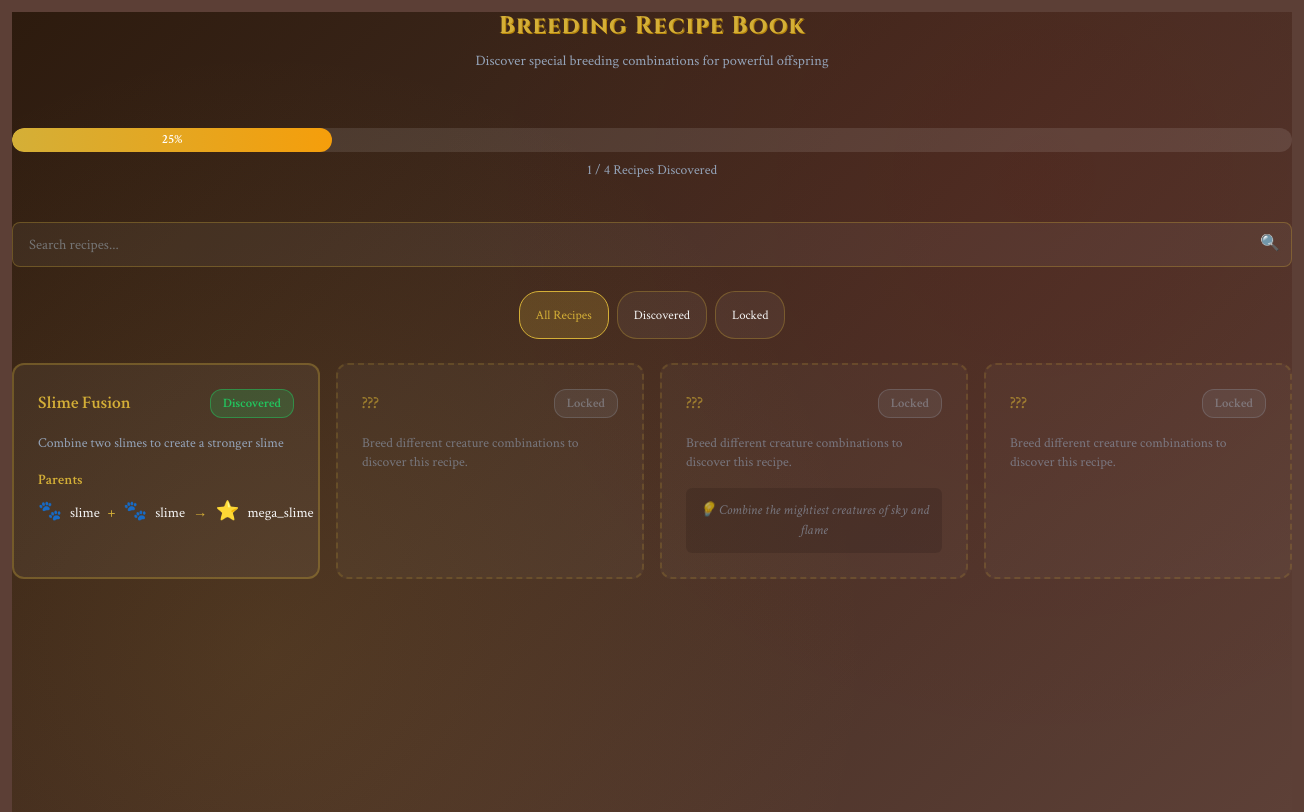
Test case: BreedingRecipeBook › Filter by Discovery Status › should return to all recipes when All Recipes clicked
Note: Filter to discovered
Click the button "Discovered" at (662, 315), box x1=617 y1=291 x2=707 y2=339
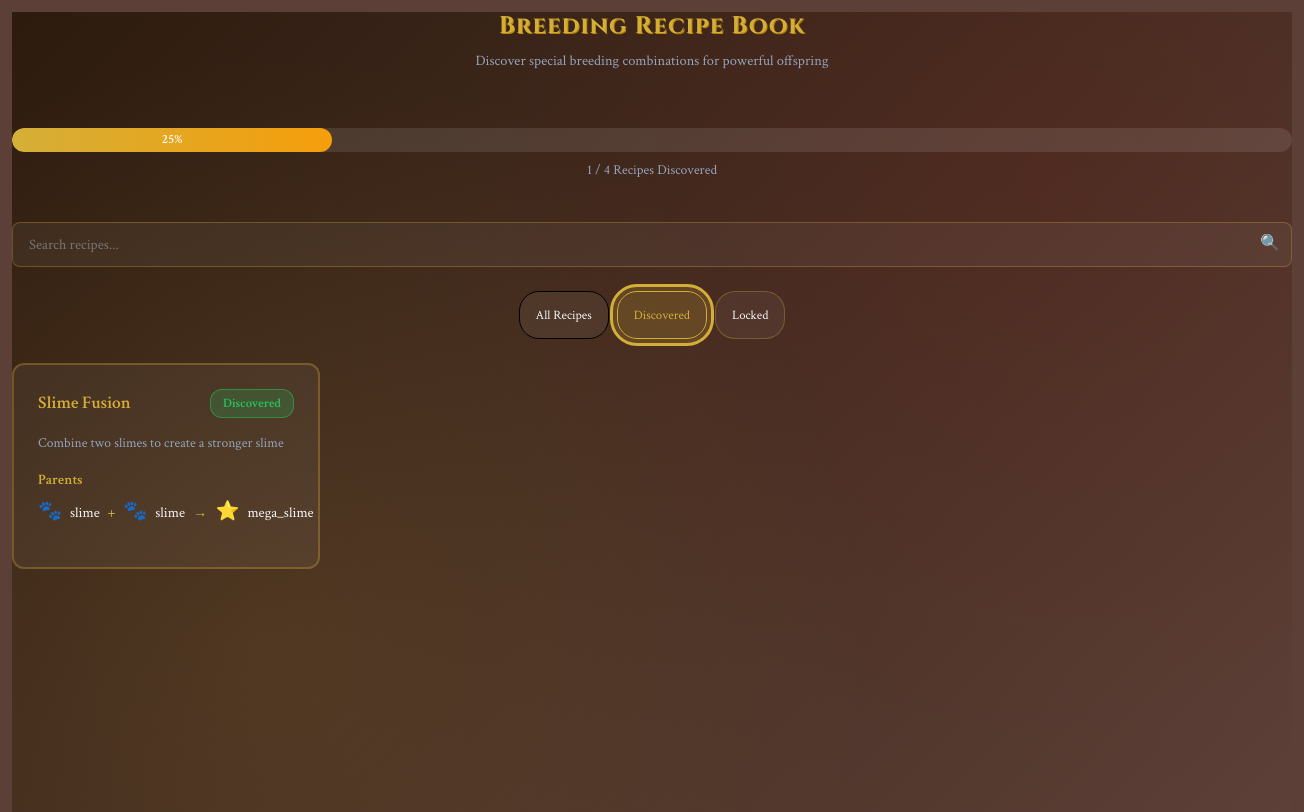
Note: Click All Recipes
Click the button "All Recipes" at (564, 315), box x1=519 y1=291 x2=609 y2=339
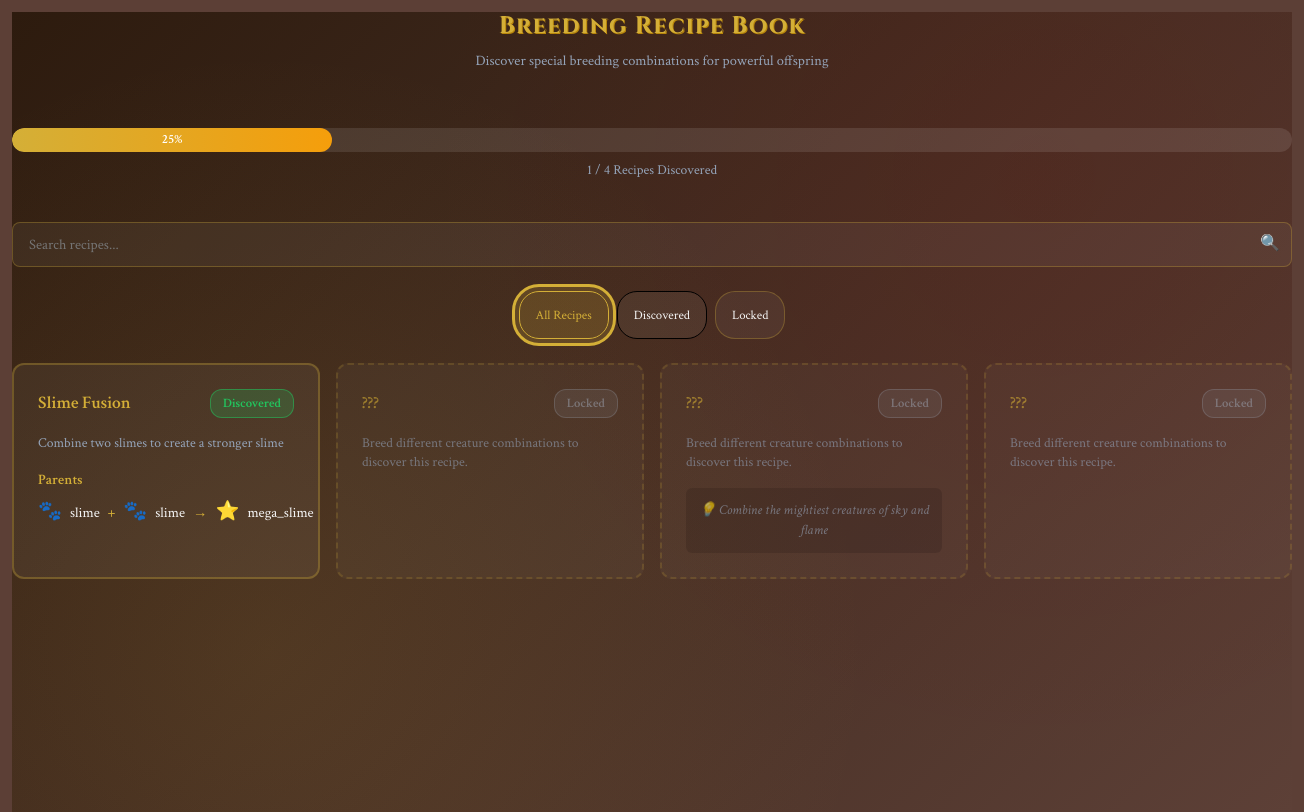
Check: the text "Slime Fusion" is shown, box x1=38 y1=390 x2=131 y2=416
Check: the 1st text "???" is shown, box x1=362 y1=390 x2=379 y2=416
